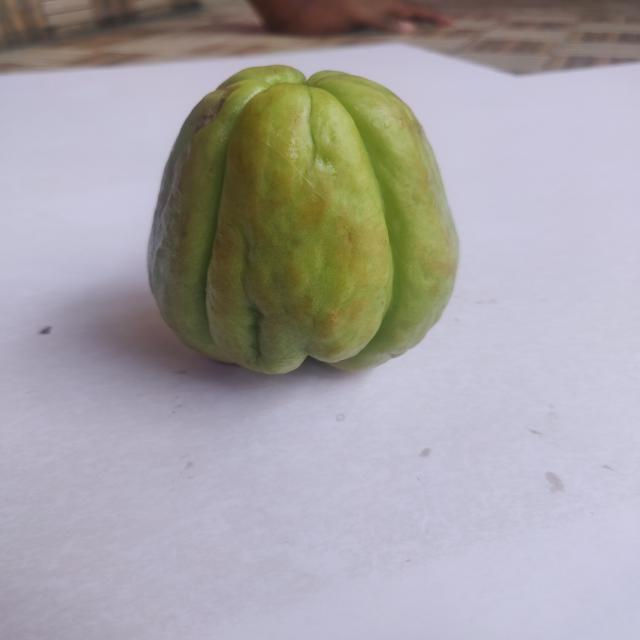Chayote: (134, 53, 481, 403)
